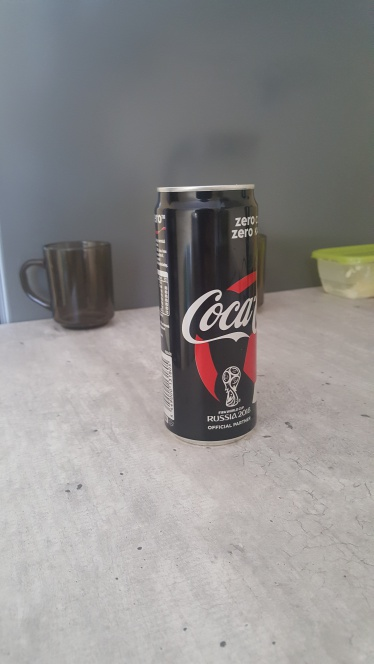colazero: (158, 181, 259, 445)
